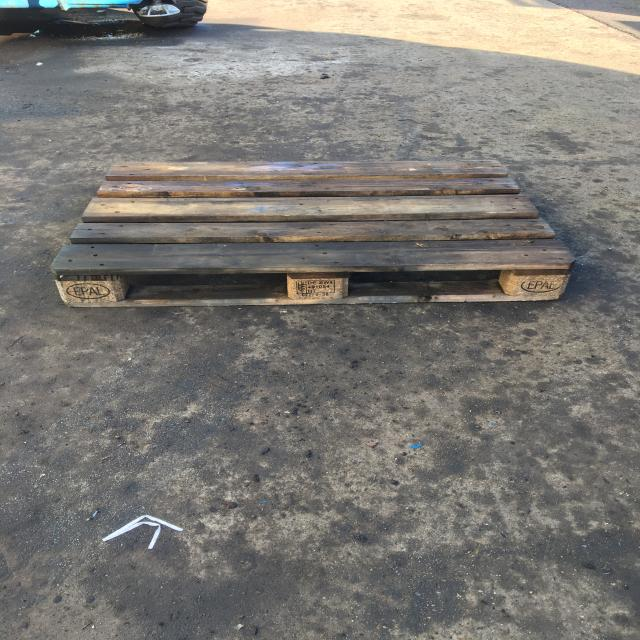block: (288, 265, 350, 306), (57, 269, 124, 306), (512, 267, 572, 300)
front: (49, 265, 581, 308)
